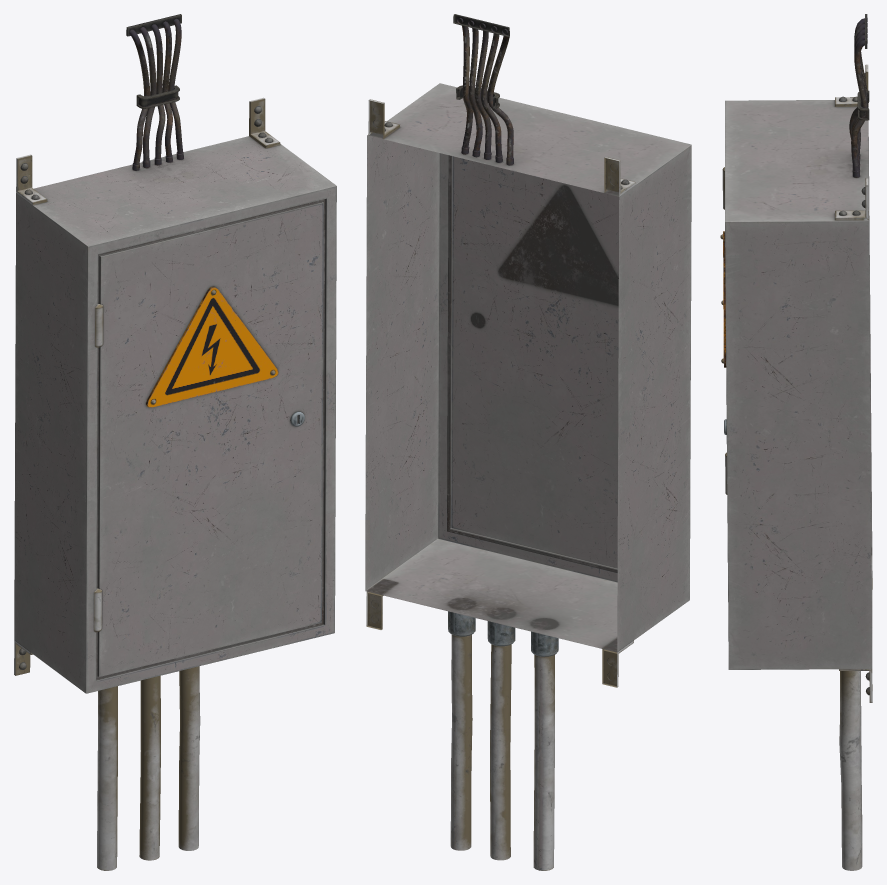
The model's file is Electrical Panel.fbx.
3 renders of one model, left to right at view 1: azimuth 30°, elevation 25°; view 2: azimuth 150°, elevation 25°; view 3: azimuth 270°, elevation 25°, orthographic.
Parts seen in each view (by area): view 1: Electrical control panel; view 2: Electrical control panel; view 3: Electrical control panel.
Part boxes in pixels (bbox=[...]): Electrical control panel: bbox=[14, 14, 336, 870]; Electrical control panel: bbox=[365, 14, 691, 870]; Electrical control panel: bbox=[720, 14, 872, 870].
Size of the model in its own units: 60 by 190 by 31.8.
Materials: 1 (1 with a texture image).
